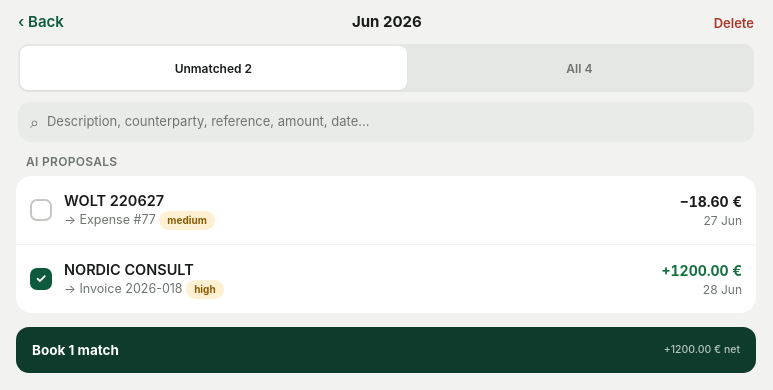
it: StatementScreen booking › pre-selects ONLY high-confidence proposals and books exactly the selected set with an Undo toast
This screenshot has width=773, height=390.
Check: the text "→ Invoice 2026-018 high" is shown, box top-left (64, 280), bottom-right (224, 299)
Check: the text "high" is shown, box top-left (186, 280), bottom-right (224, 299)
Step 1. Click the button "Book 1 match +1200.00 € net" → (50, 350), box top-left (16, 327), bottom-right (756, 373)
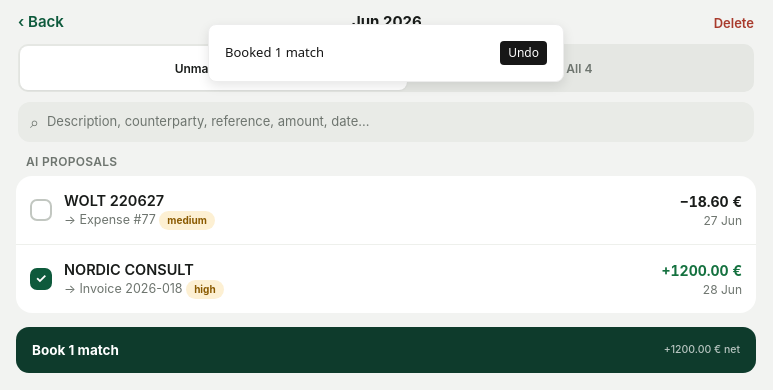
Check: the text "Booked 1 match" is shown, box top-left (225, 43), bottom-right (324, 63)
Check: the button "Undo" is shown, box top-left (500, 41), bottom-right (547, 65)
